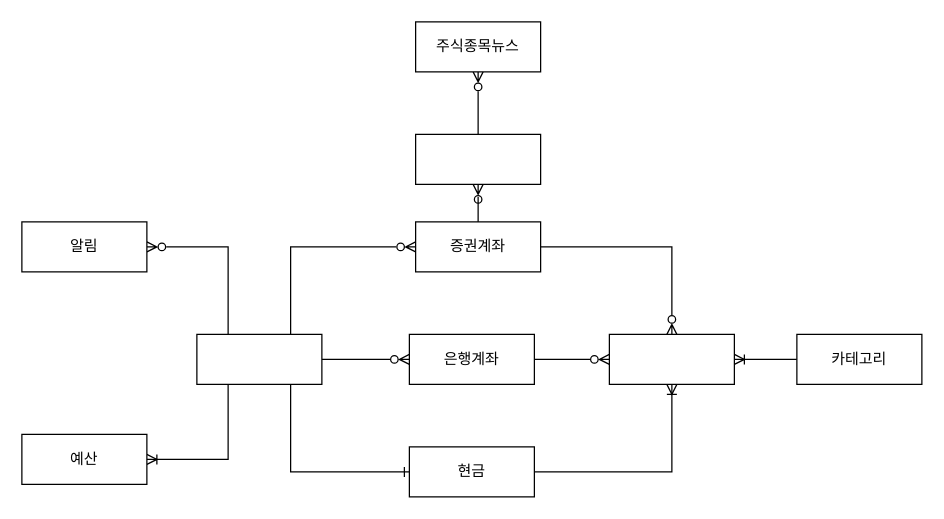
Some shapes in this 944 by 519 pixel diagram are drawn without their labels. The centre of each missing label's shape, as x and y in pixels:
"거래내역" belongs at point 671,358.
"보유주식종목" belongs at point 477,158.
"사용자" belongs at point 259,358.
